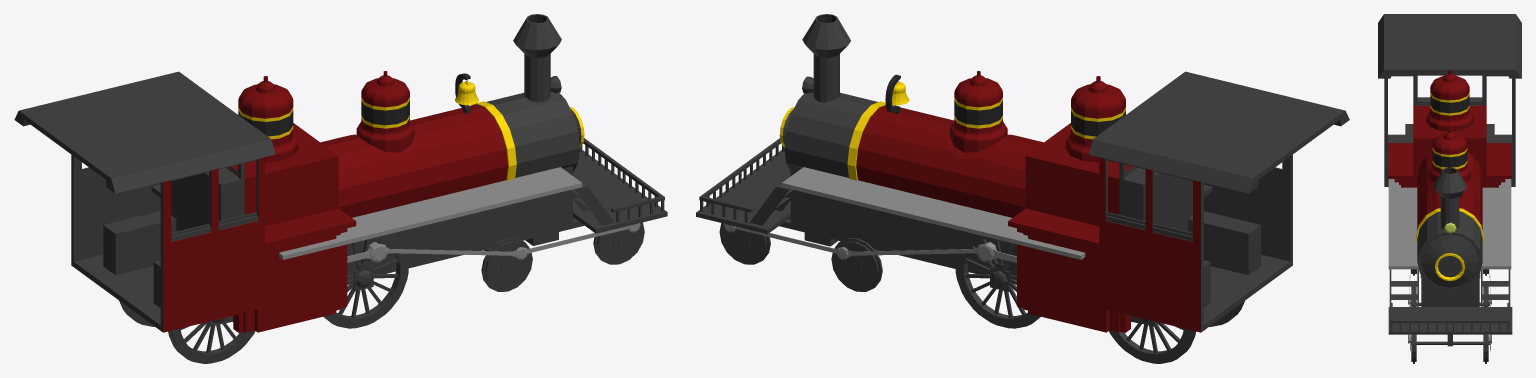
Rendered from Train 1.fbx.
3 renders of one model, left to right at view 1: azimuth 30°, elevation 25°; view 2: azimuth 150°, elevation 25°; view 3: azimuth 270°, elevation 25°, orthographic. The views are drawn at different scales.
Parts seen in each view (by area): view 1: body, Cube, road, Wheel_Big, Wheel_Big.001, Cylinder.001, Wheel_Small, Wheel_Small.001, Cube.002, Stairs; view 2: body, Cube, road, Wheel_Big, Wheel_Big.001, Cylinder.001, Wheel_Small, Wheel_Small.001, Cube.002, Stairs; view 3: body, road, Cube, Stairs, Cube.002, Wheel_Small.001, Cube.004, Wheel_Small, Cylinder.001.
Part boxes in pixels (left/top/right/bottom): body: left=14, top=14, right=584, bottom=332; Cube: left=347, top=150, right=667, bottom=291; road: left=279, top=167, right=582, bottom=259; Wheel_Big: left=323, top=233, right=408, bottom=328; Wheel_Big.001: left=119, top=300, right=255, bottom=363; Cylinder.001: left=347, top=223, right=640, bottom=262; Wheel_Small: left=481, top=238, right=532, bottom=291; Wheel_Small.001: left=573, top=217, right=644, bottom=264; Cube.002: left=583, top=138, right=664, bottom=212; Stairs: left=567, top=172, right=614, bottom=225; body: left=779, top=14, right=1349, bottom=332; Cube: left=696, top=150, right=1016, bottom=291; road: left=782, top=167, right=1085, bottom=259; Wheel_Big: left=955, top=233, right=1040, bottom=328; Wheel_Big.001: left=1109, top=301, right=1244, bottom=363; Cylinder.001: left=723, top=223, right=1016, bottom=262; Wheel_Small: left=831, top=238, right=882, bottom=291; Wheel_Small.001: left=719, top=217, right=790, bottom=264; Cube.002: left=699, top=138, right=780, bottom=212; Stairs: left=750, top=172, right=796, bottom=225; body: left=1378, top=14, right=1521, bottom=291; road: left=1388, top=179, right=1511, bottom=269; Cube: left=1388, top=274, right=1512, bottom=351; Stairs: left=1389, top=269, right=1510, bottom=312; Cube.002: left=1390, top=303, right=1509, bottom=323; Wheel_Small.001: left=1411, top=334, right=1488, bottom=363; Cube.004: left=1390, top=323, right=1509, bottom=330; Wheel_Small: left=1411, top=286, right=1488, bottom=306; Cylinder.001: left=1408, top=269, right=1491, bottom=343.
Size of the model in its own units: 2117 by 899 by 661.
